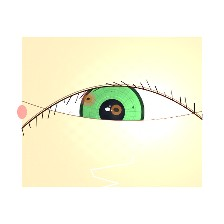foreign_body_visible: (80, 92, 97, 106)
